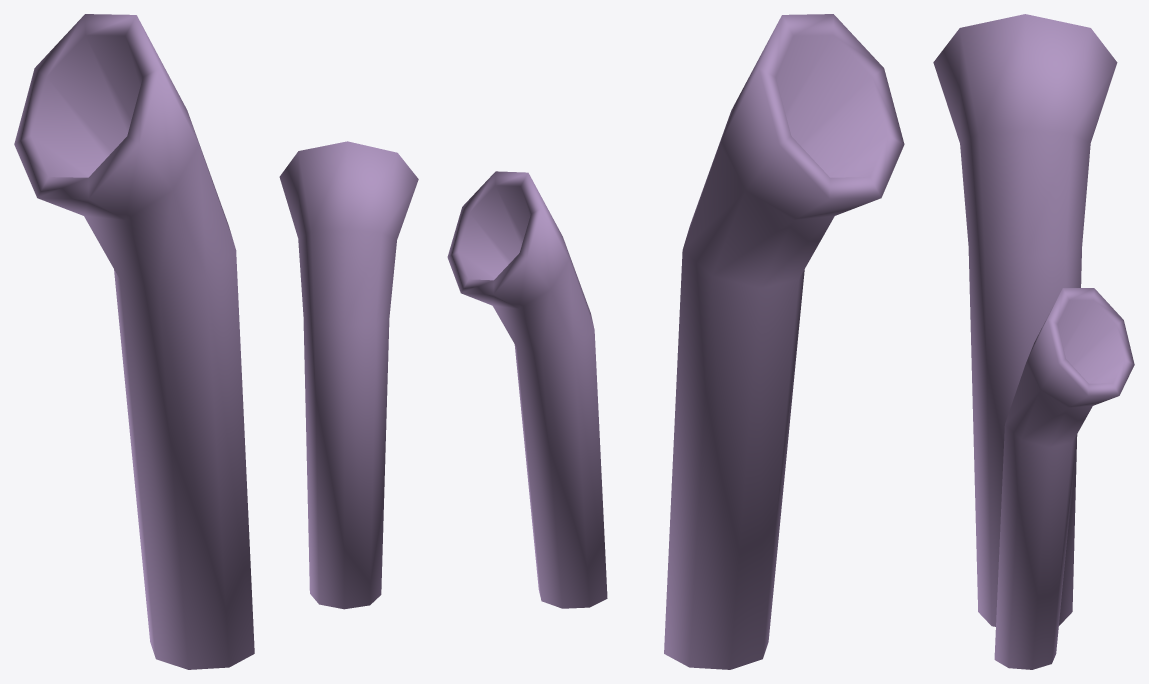
File: Mushrooms1.fbx
3 renders of one model, left to right at view 1: azimuth 30°, elevation 25°; view 2: azimuth 150°, elevation 25°; view 3: azimuth 270°, elevation 25°, orthographic. The views are drawn at different scales.
Visible parts, largest first — view 1: Cube.001; view 2: Cube.001; view 3: Cube.001.
Part boxes in pixels (left/top/right/bottom): Cube.001: left=14, top=14, right=418, bottom=669; Cube.001: left=447, top=14, right=904, bottom=669; Cube.001: left=933, top=14, right=1134, bottom=669.
Size of the model in its own units: 156 by 242 by 77.38.
